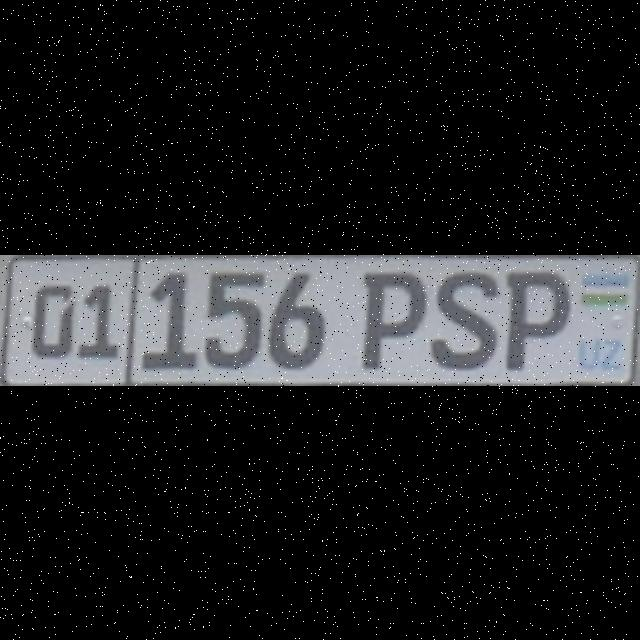0: (31, 280, 71, 354)
1: (138, 267, 196, 367), (76, 280, 118, 354)
5: (202, 269, 262, 367)
6: (266, 269, 322, 367)
P: (360, 269, 424, 367), (505, 269, 569, 367)
S: (428, 269, 496, 367)
